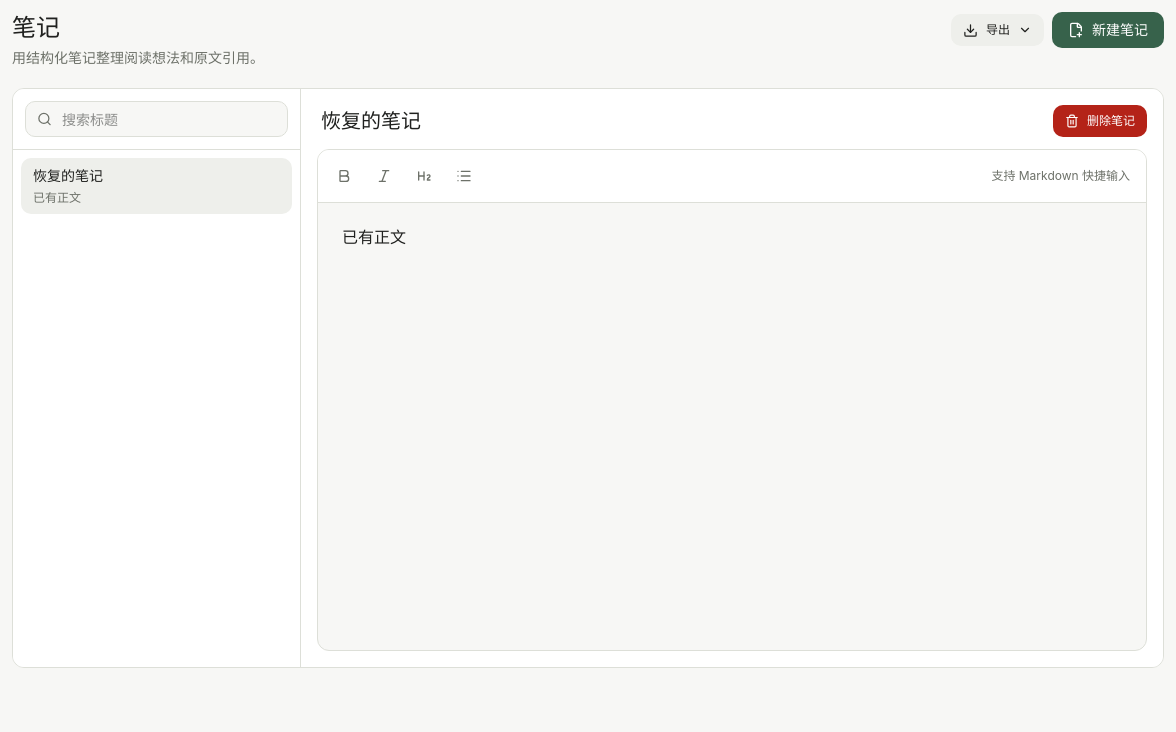
Test case: NotesPage › keeps note export choices in one secondary menu
Expected: the field named "笔记标题" is shown, top-left (317, 107), bottom-right (1029, 135)
Expected: the button "批量导出" is not shown
What coordinates should you click on to do the following:
click the button "导出"
I would click on:
 (998, 30)
Its box is top-left (951, 14), bottom-right (1044, 46).
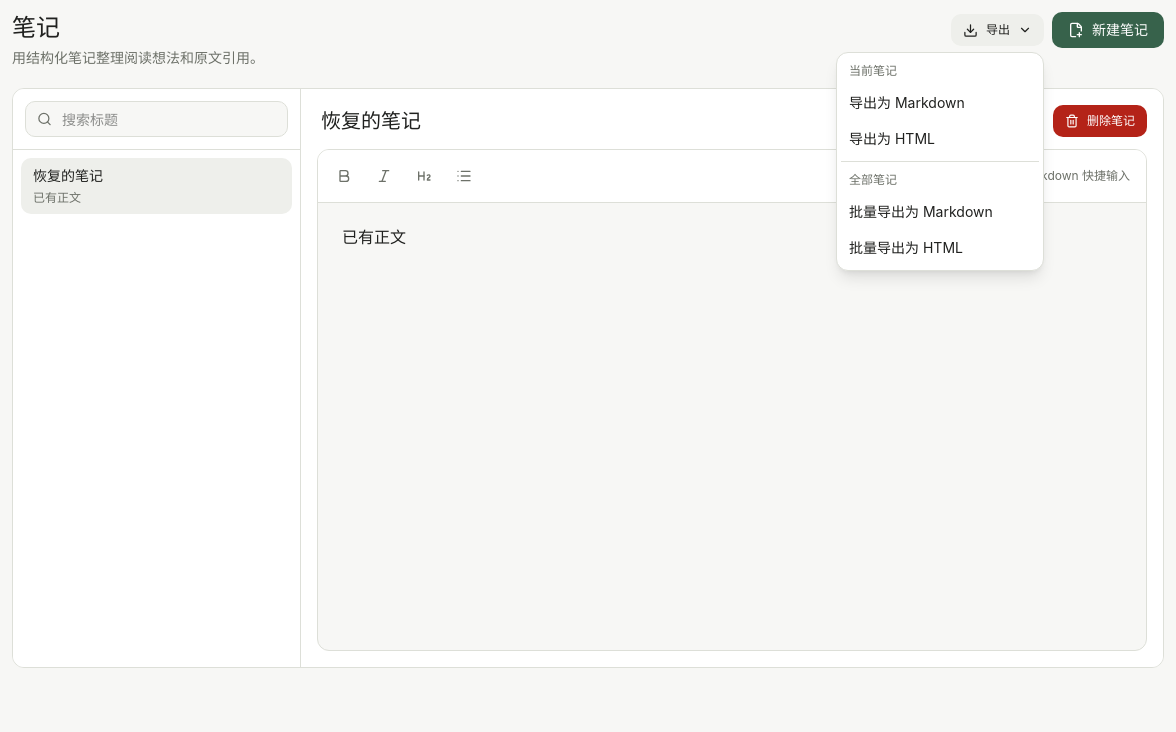
Now the button "导出为 Markdown" is shown, box top-left (841, 85), bottom-right (1039, 121)
Now the button "批量导出为 HTML" is shown, box top-left (841, 230), bottom-right (1039, 266)
